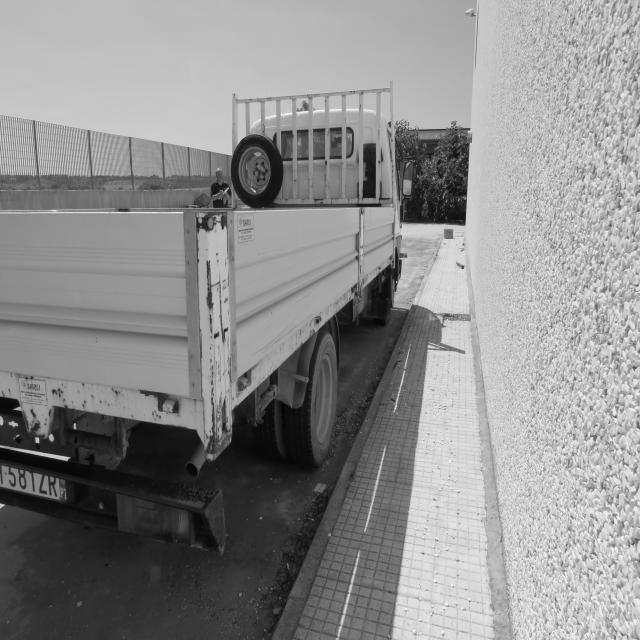truck: (1, 81, 403, 557)
